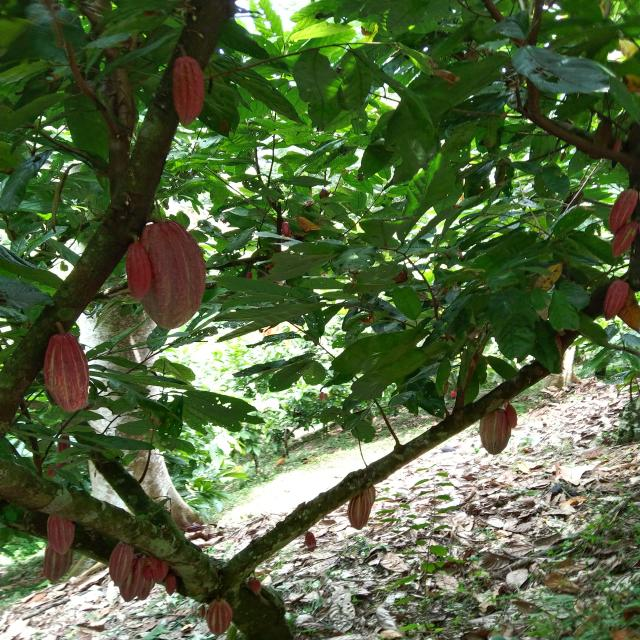Sana: (137, 220, 207, 334), (44, 333, 92, 411), (163, 50, 206, 128), (118, 239, 157, 305), (46, 513, 78, 555), (42, 544, 72, 583), (483, 413, 511, 454), (109, 539, 131, 588), (611, 219, 640, 254), (604, 276, 626, 322), (119, 558, 142, 602), (610, 183, 630, 233), (203, 598, 232, 632), (136, 566, 158, 602), (352, 492, 372, 530), (150, 560, 168, 582), (508, 404, 520, 430), (305, 530, 318, 552), (166, 576, 177, 596), (250, 580, 260, 594), (186, 526, 205, 532)
